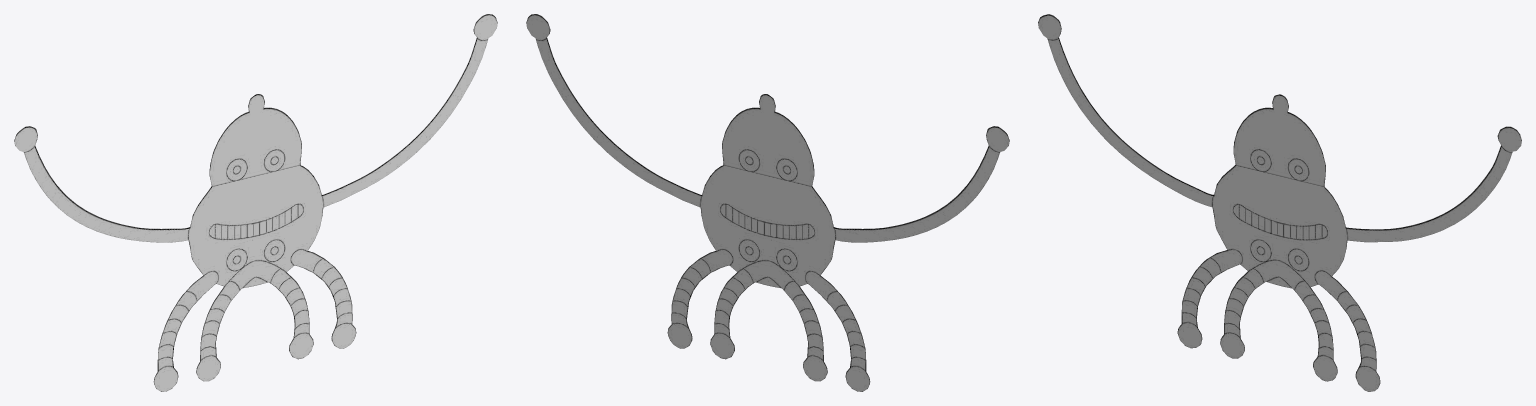
The model's file is 11_kaeryoong_fix.fbx.
3 views of the same model, side by side, from view 1: azimuth 30°, elevation 25°; view 2: azimuth 150°, elevation 25°; view 3: azimuth 330°, elevation 25° (orthographic).
Visible parts, largest first — view 1: planarTrimmedSurface31; view 2: planarTrimmedSurface31; view 3: planarTrimmedSurface31.
Boxes of the visible parts, <box> form: planarTrimmedSurface31: <box>14,14,497,391</box>; planarTrimmedSurface31: <box>526,14,1009,391</box>; planarTrimmedSurface31: <box>1038,14,1521,391</box>.
Bounding box in the file's own units: 17.71 × 10.49 × 1.71e-06.
Materials: 1 (1 with a texture image).
